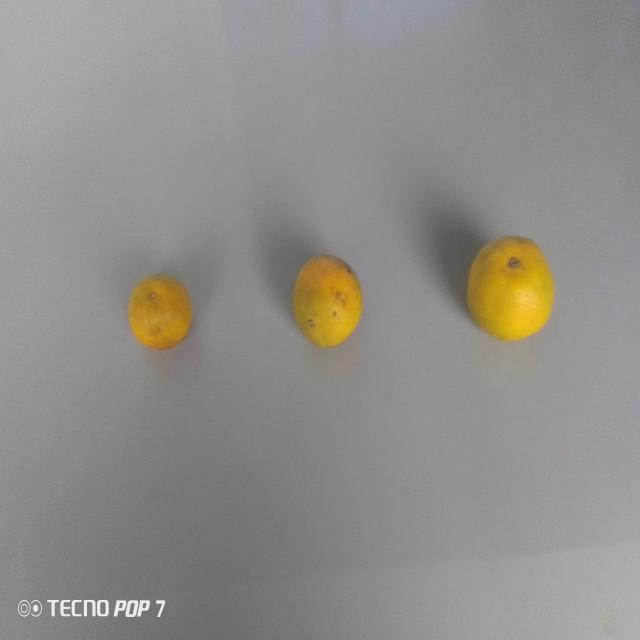Ripe orange: (463, 230, 560, 345), (288, 246, 366, 356), (126, 264, 194, 353)
